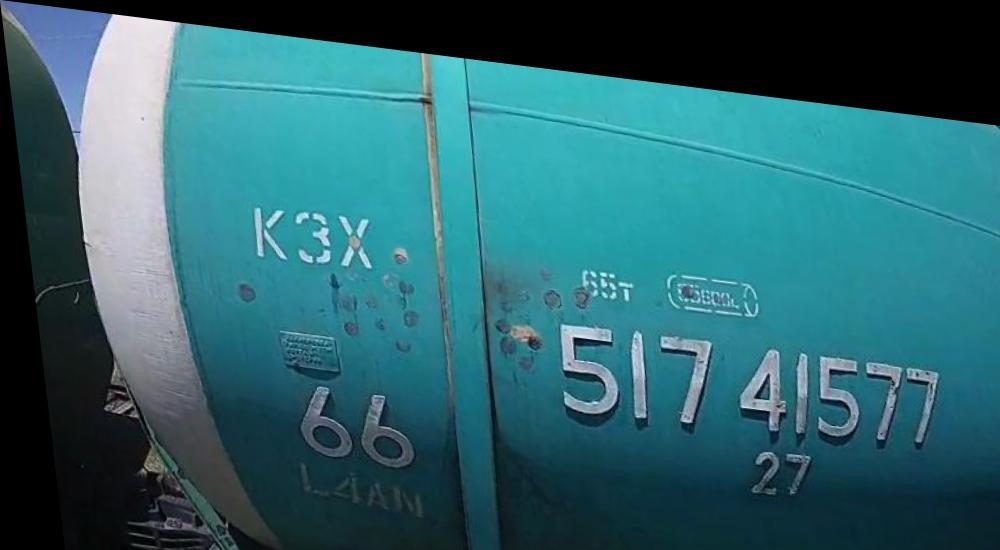Wagon-number: (543, 301, 944, 444)
